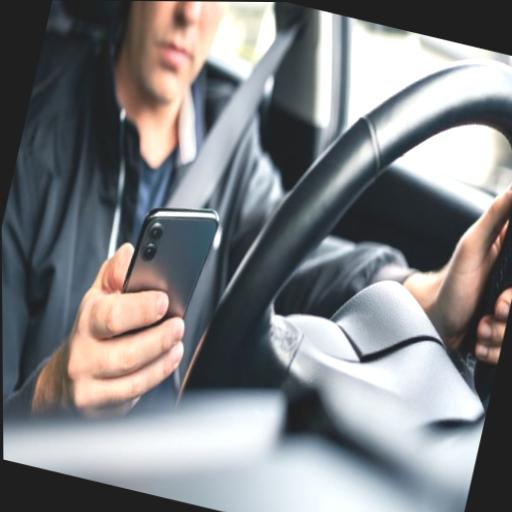Hands-on-the-Wheel: (398, 123, 512, 372)
